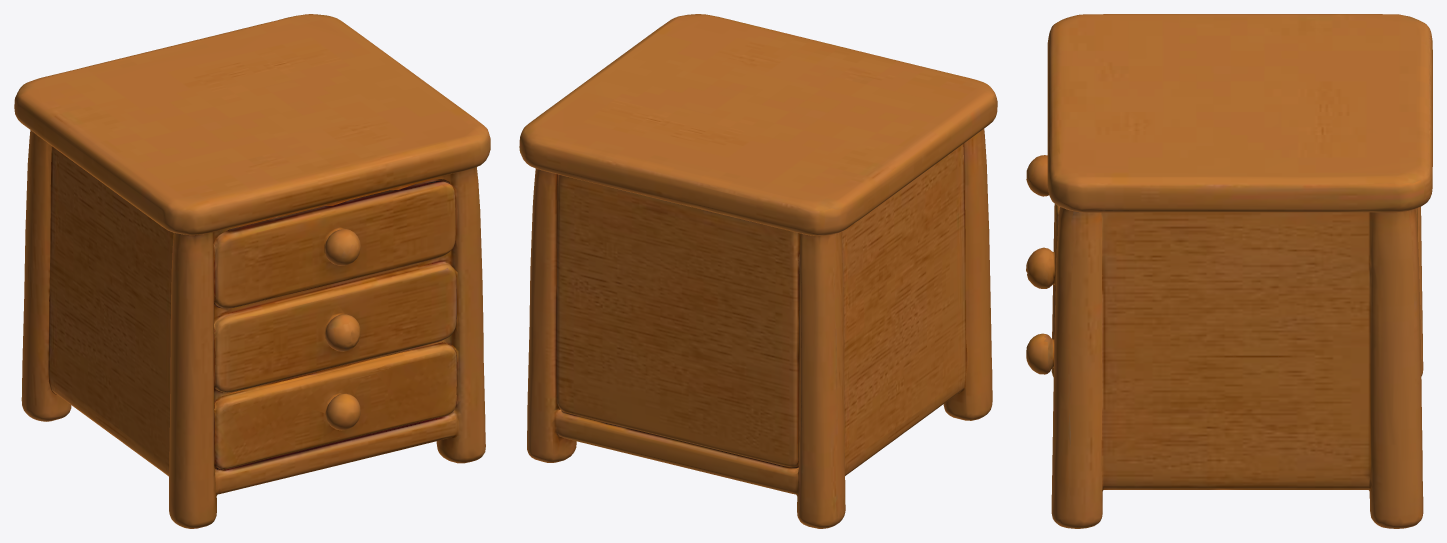
Rendered from drawer_basic.glb.
3 views of the same model, side by side, from view 1: azimuth 30°, elevation 25°; view 2: azimuth 150°, elevation 25°; view 3: azimuth 270°, elevation 25° (orthographic). The views are drawn at different scales.
Visible parts, largest first — view 1: textured_mesh.obj; view 2: textured_mesh.obj; view 3: textured_mesh.obj.
Part boxes in pixels (x1,y1,x2,y2): textured_mesh.obj: [14, 14, 490, 528]; textured_mesh.obj: [519, 14, 997, 528]; textured_mesh.obj: [1026, 14, 1432, 528].
Size of what is drawn, in the model's own units: 1.09 by 1.05 by 1.09.
Materials: 1 (1 with a texture image).
